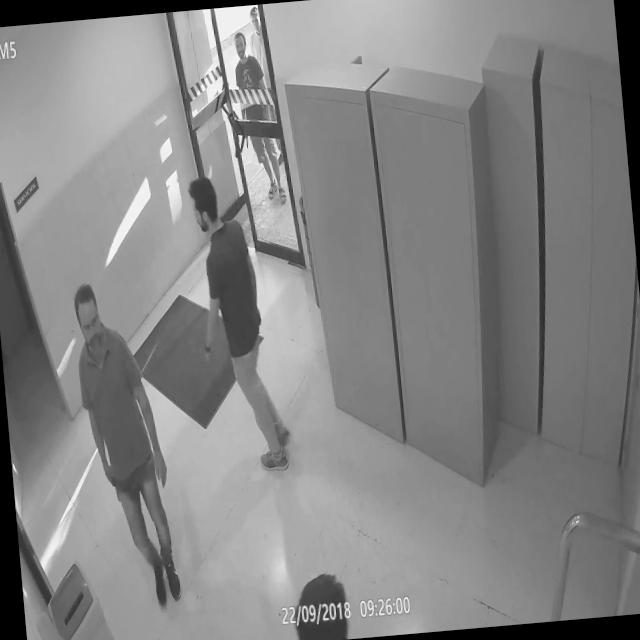gun: (238, 115, 252, 154), (108, 476, 121, 504)
person: (181, 167, 306, 485), (244, 4, 288, 171)
person with a gun: (68, 272, 192, 620), (230, 26, 286, 208)
